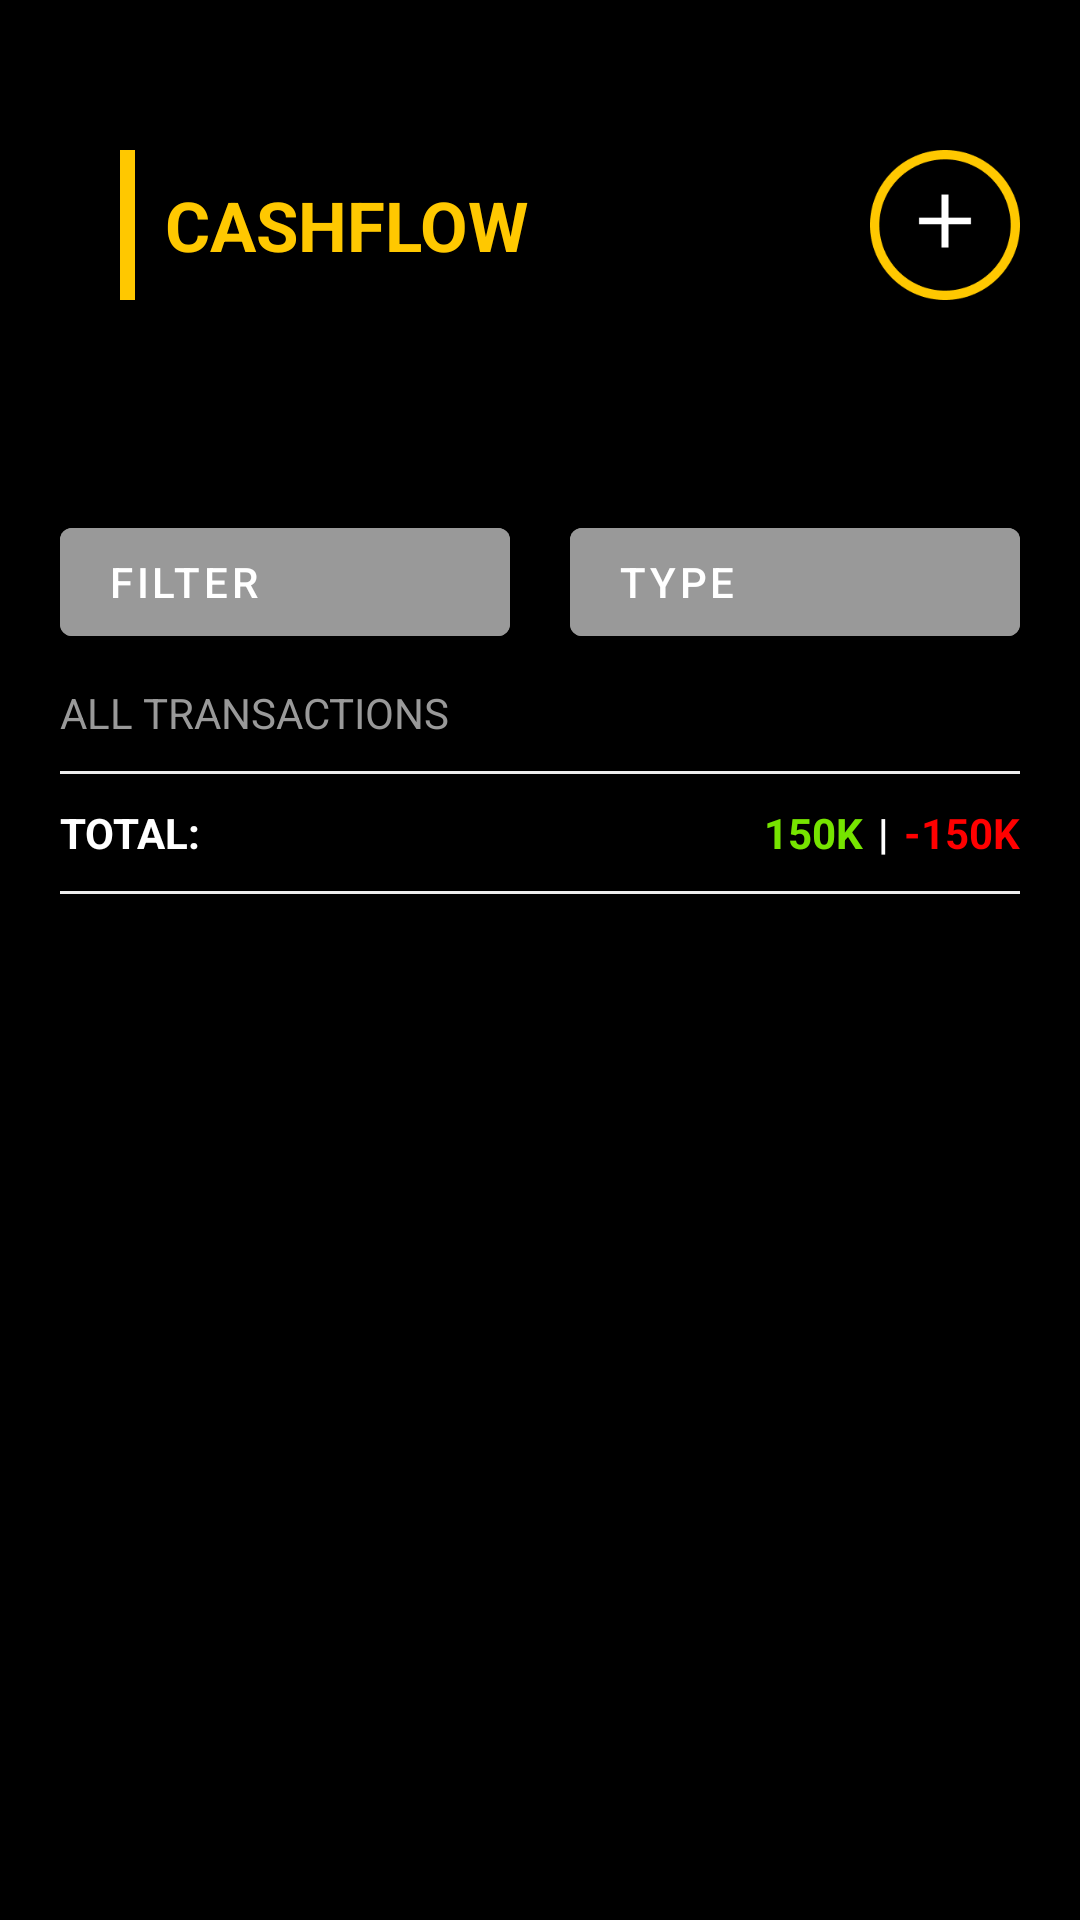

Icons on this 1080 x 1920 Android screen, each with the point to tap as [x,y]:
add: [945,225]
